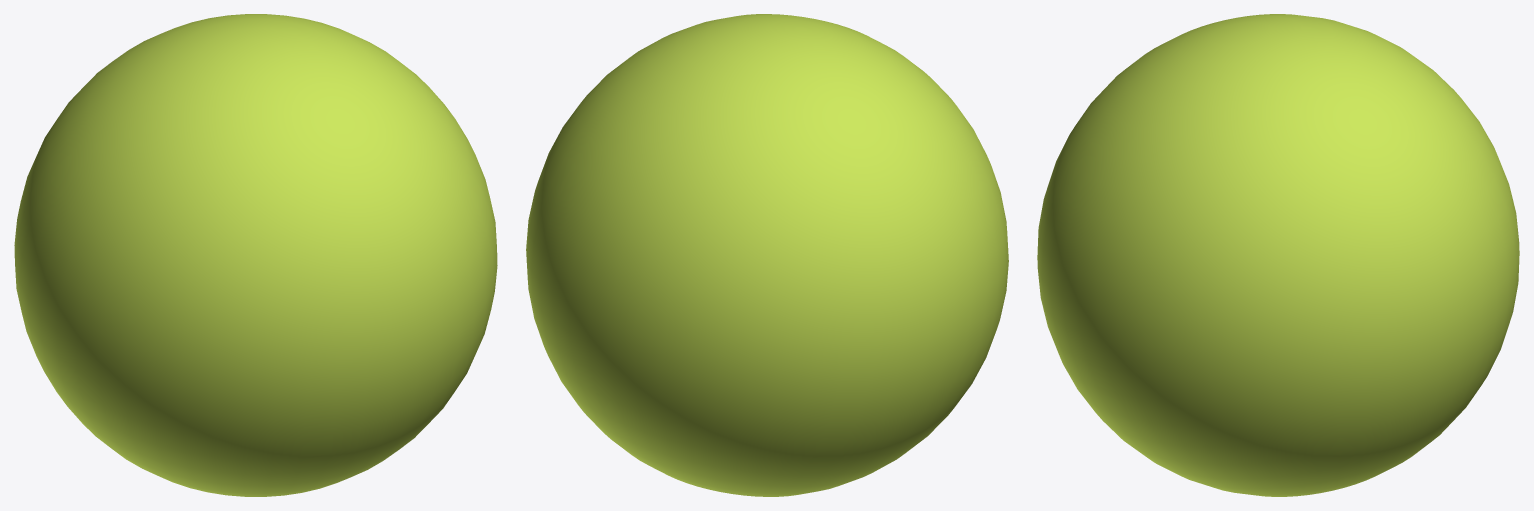
File: earth obj.obj
3 renders of one model, left to right at view 1: azimuth 30°, elevation 25°; view 2: azimuth 150°, elevation 25°; view 3: azimuth 270°, elevation 25°, orthographic.
Visible parts, largest first — view 1: atmoshpere; view 2: atmoshpere; view 3: atmoshpere.
Part boxes in pixels (x1=…): atmoshpere: x1=14, y1=14, x2=497, y2=496; atmoshpere: x1=526, y1=14, x2=1008, y2=496; atmoshpere: x1=1037, y1=14, x2=1519, y2=496.
Bounding box in the file's own units: 89.24 × 89.39 × 89.31.
